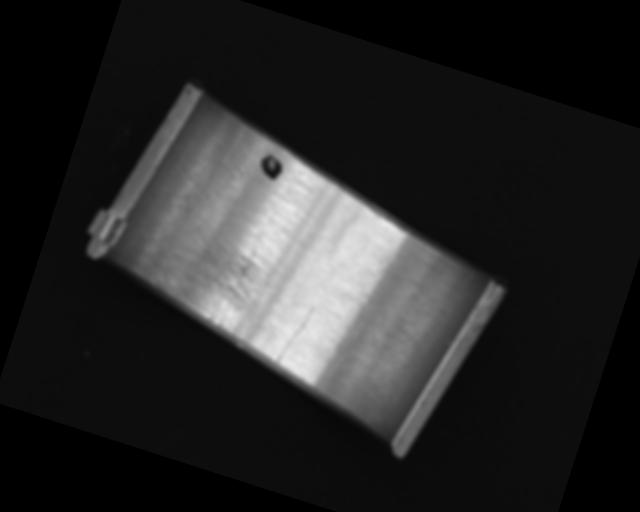blot: (255, 152, 286, 182)
nick: (401, 254, 476, 360), (276, 299, 317, 368)
scratch: (140, 222, 278, 346)
